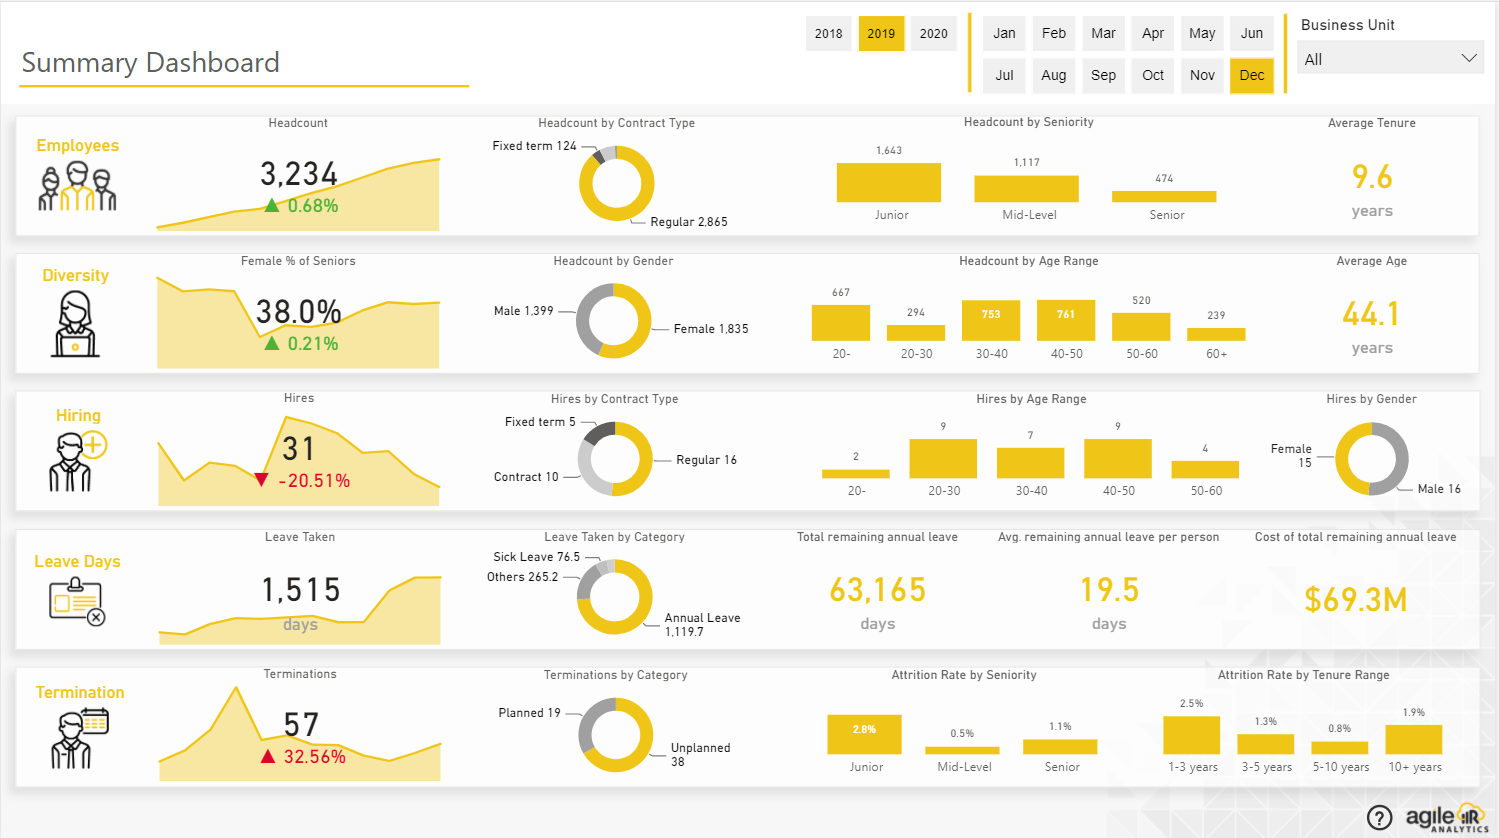

The page's visual inventory and layout, read from the dashboard file:
{"tool":"powerbi","page":{"name":"Page 1","canvas":[1280,720],"ordinal":0},"visuals":[{"type":"shape","box":[19.7,44.8,392.2,20.6],"z":0},{"type":"textbox","box":[19.7,9,392.2,56.4],"z":1000},{"type":"slicer","fields":{"Values":["v_dim_date.DateValue.Variation.Date Hierarchy.Year"]},"box":[673.3,3.3,224.4,75.6],"z":2000},{"type":"slicer","fields":{"Values":["v_dim_date.DateValue.Variation.Date Hierarchy.Month"]},"box":[897.8,3.3,193.3,81.1],"z":3000},{"type":"slicer","fields":{"Values":["v_dim_businessunit.Name"]},"box":[1098.8,3.6,171.9,80.6],"z":4000},{"type":"textbox","box":[33,76.7,1207.3,152.3],"z":5000},{"type":"card","title":"Headcount","fields":{"Values":["Measure Table.Headcount"]},"box":[240.9,85.1,171.9,84.2],"z":6000},{"type":"donutChart","title":"HeadCount by Contract Type","fields":{"Category":["v_fact_headcount.ContractType"],"Y":["Measure Table.Fixed term","Measure Table.Regular"]},"box":[448.7,91.3,188.1,125.4],"z":7000},{"type":"columnChart","title":"Headcount by Seniority","fields":{"Category":["v_dim_organisationlevel.Name"],"Y":["Measure Table.Headcount"]},"box":[660,91.3,374.3,125.4],"z":8000},{"type":"card","title":"Average Tenure","fields":{"Values":["Measure Table.Avg tenure"]},"box":[1080.9,91.4,148.7,130.7],"z":9000},{"type":"textbox","box":[69,90.6,132.5,51.9],"z":10000},{"type":"textbox","box":[33.1,237.3,1208.1,152.2],"z":11000},{"type":"textbox","box":[32.2,399.4,1208.1,152.2],"z":12000},{"type":"textbox","box":[32.2,560.6,1208.1,152.2],"z":13000},{"type":"textbox","box":[69,255.2,132.5,51.9],"z":14000},{"type":"card","fields":{"Values":["Measure Table.Headcount_%change"]},"box":[299.1,178.2,52.8,24.2],"z":15000},{"type":"card","title":"Female % by High-level","fields":{"Values":["Measure Table.Female % of High-level"]},"box":[256.6,255.6,139.7,85.5],"z":16000},{"type":"card","fields":{"Values":["Measure Table.Female_%change"]},"box":[300.3,347.8,52.3,23.8],"z":17000},{"type":"pieChart","title":"HeadCount by Gender","fields":{"Y":["Measure Table.Headcount"],"Series":["v_fact_headcount.Gender"]},"box":[453.3,248,187.2,131.1],"z":18000},{"type":"columnChart","title":"Headcount by Age Range","fields":{"Category":["v_fact_headcount.AgeBanding"],"Y":["Measure Table.Headcount"]},"box":[660.4,248,392.5,130.2],"z":19000},{"type":"card","title":"Average Age","fields":{"Values":["Measure Table.Avg_age"]},"box":[1080.4,248,148.2,130.2],"z":20000},{"type":"card","fields":{"Values":["Measure Table.Hired_%change"]},"box":[300.3,509.3,52.3,23.8],"z":21000},{"type":"card","title":"Hires","fields":{"Values":["Measure Table.Hires"]},"box":[256.6,414.3,139.7,85.5],"z":22000}]}

Visuals, with their boxes in screenshot pixels (x1, y1, x2, y2), scaled from the page's 1280x720 canvas onto the 1499x838 screenshot:
shape: rect(23, 52, 482, 76)
textbox: rect(23, 10, 482, 76)
slicer - v_dim_date.DateValue.Variation.Date Hierarchy.Year: rect(788, 4, 1051, 92)
slicer - v_dim_date.DateValue.Variation.Date Hierarchy.Month: rect(1051, 4, 1278, 98)
slicer - v_dim_businessunit.Name: rect(1287, 4, 1488, 98)
textbox: rect(39, 89, 1453, 267)
"Headcount" card: rect(282, 99, 483, 197)
"HeadCount by Contract Type" donutChart: rect(525, 106, 746, 252)
"Headcount by Seniority" columnChart: rect(773, 106, 1211, 252)
"Average Tenure" card: rect(1266, 106, 1440, 258)
textbox: rect(81, 105, 236, 166)
textbox: rect(39, 276, 1454, 453)
textbox: rect(38, 465, 1453, 642)
textbox: rect(38, 652, 1453, 830)
textbox: rect(81, 297, 236, 357)
card - Measure Table.Headcount_%change: rect(350, 207, 412, 236)
"Female % by High-level" card: rect(301, 297, 464, 397)
card - Measure Table.Female_%change: rect(352, 405, 413, 433)
"HeadCount by Gender" pieChart: rect(531, 289, 750, 441)
"Headcount by Age Range" columnChart: rect(773, 289, 1233, 440)
"Average Age" card: rect(1265, 289, 1439, 440)
card - Measure Table.Hired_%change: rect(352, 593, 413, 620)
"Hires" card: rect(301, 482, 464, 582)
